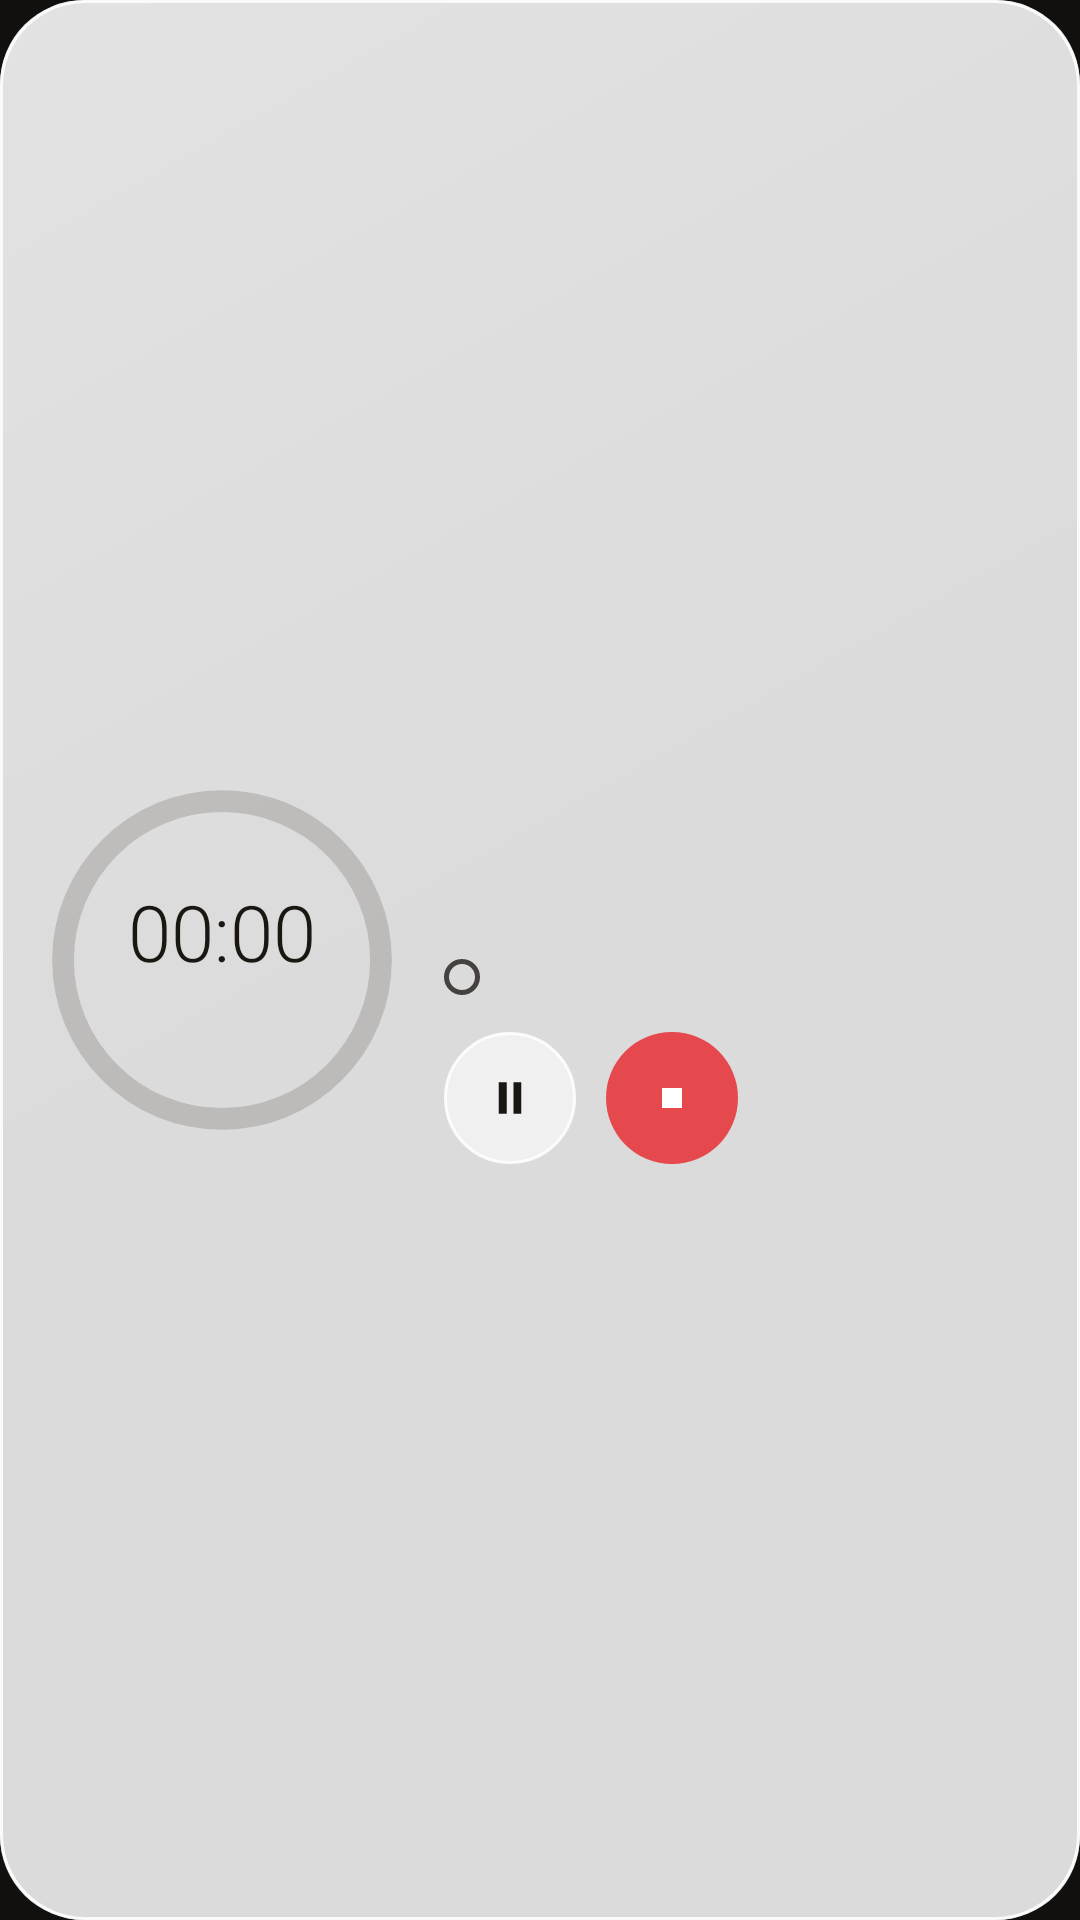

Screen size 1080px×1920px. Icon name, then its center in pixels as (x=x, y=y):
Pause or resume: (x=510, y=1098)
Stop: (x=672, y=1098)
